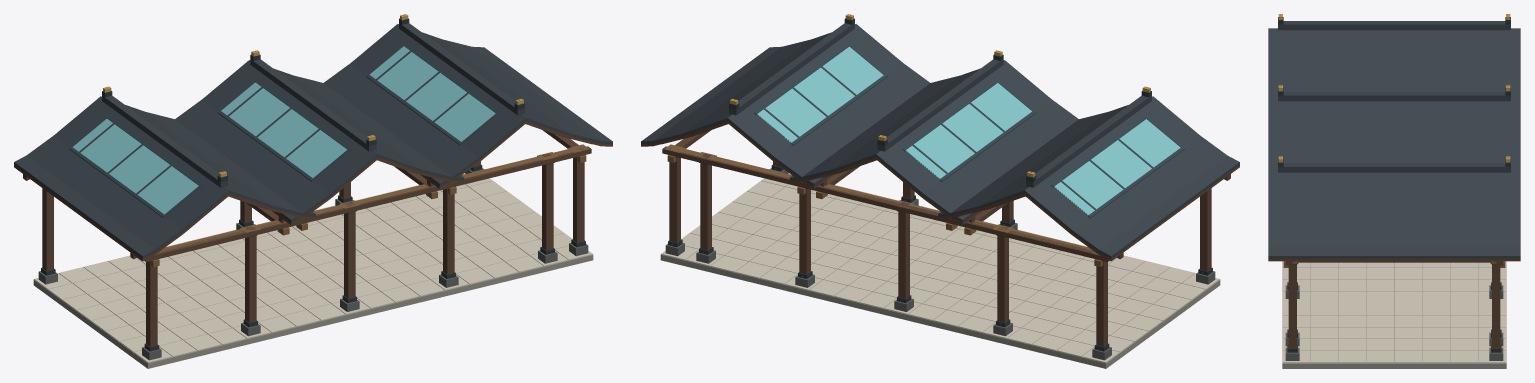
3 views of the same model, side by side, from view 1: azimuth 30°, elevation 25°; view 2: azimuth 150°, elevation 25°; view 3: azimuth 270°, elevation 25° (orthographic).
Visible parts, largest first — view 1: 连续屋面 · gable (×3), 石铺面与混凝土楼板 (×10), 工业屋面连续采光带 (×3), 木柱、石础与金属抱箍 (×7), 多跨屋面通长柱顶承梁; view 2: 连续屋面 · gable (×3), 石铺面与混凝土楼板 (×10), 工业屋面连续采光带 (×3), 木柱、石础与金属抱箍 (×7), 多跨屋面通长柱顶承梁; view 3: 连续屋面 · gable (×3), 石铺面与混凝土楼板 (×6), 木柱、石础与金属抱箍 (×2).
Boxes of the visible parts, x1,y1,x2,y2 form: 连续屋面 · gable (×3): [14, 14, 612, 266]; 石铺面与混凝土楼板 (×10): [33, 174, 593, 368]; 工业屋面连续采光带 (×3): [69, 43, 499, 218]; 木柱、石础与金属抱箍 (×7): [38, 144, 588, 360]; 多跨屋面通长柱顶承梁: [158, 149, 572, 253]; 连续屋面 · gable (×3): [641, 14, 1239, 266]; 石铺面与混凝土楼板 (×10): [660, 174, 1220, 368]; 工业屋面连续采光带 (×3): [754, 43, 1184, 218]; 木柱、石础与金属抱箍 (×7): [665, 144, 1215, 360]; 多跨屋面通长柱顶承梁: [680, 149, 1092, 251]; 连续屋面 · gable (×3): [1268, 14, 1520, 267]; 石铺面与混凝土楼板 (×6): [1282, 261, 1506, 368]; 木柱、石础与金属抱箍 (×2): [1285, 261, 1503, 360].
Bounding box in the file's own units: 15.2 × 5.54 × 7.2.
13 materials, 13 textured.
